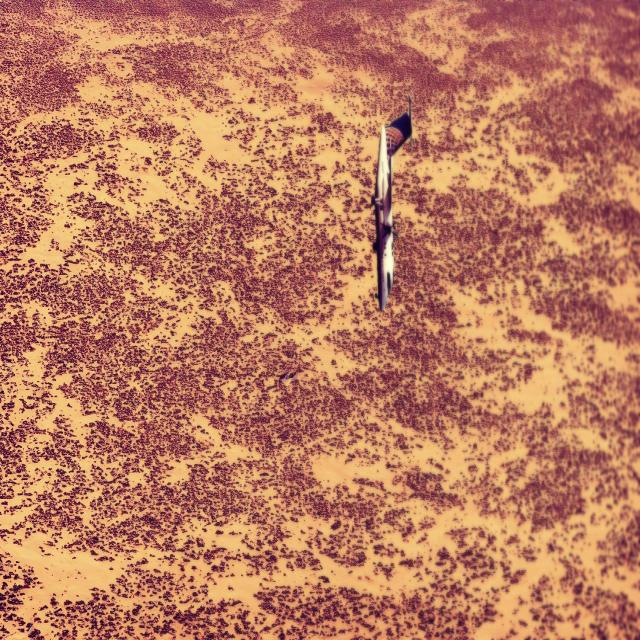airplane: (371, 94, 412, 312)
